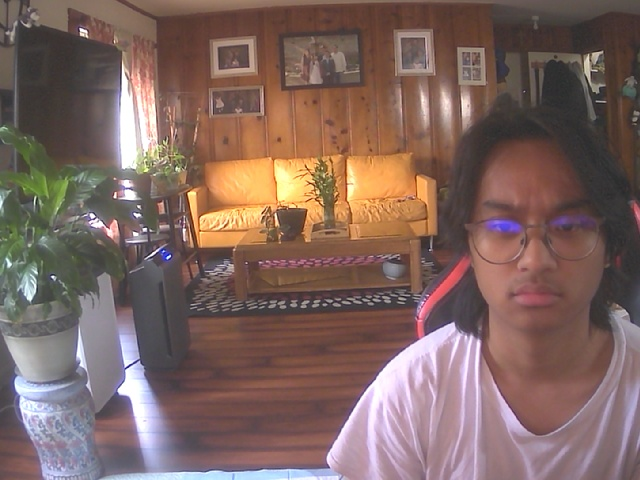anger: (464, 110, 620, 336)
